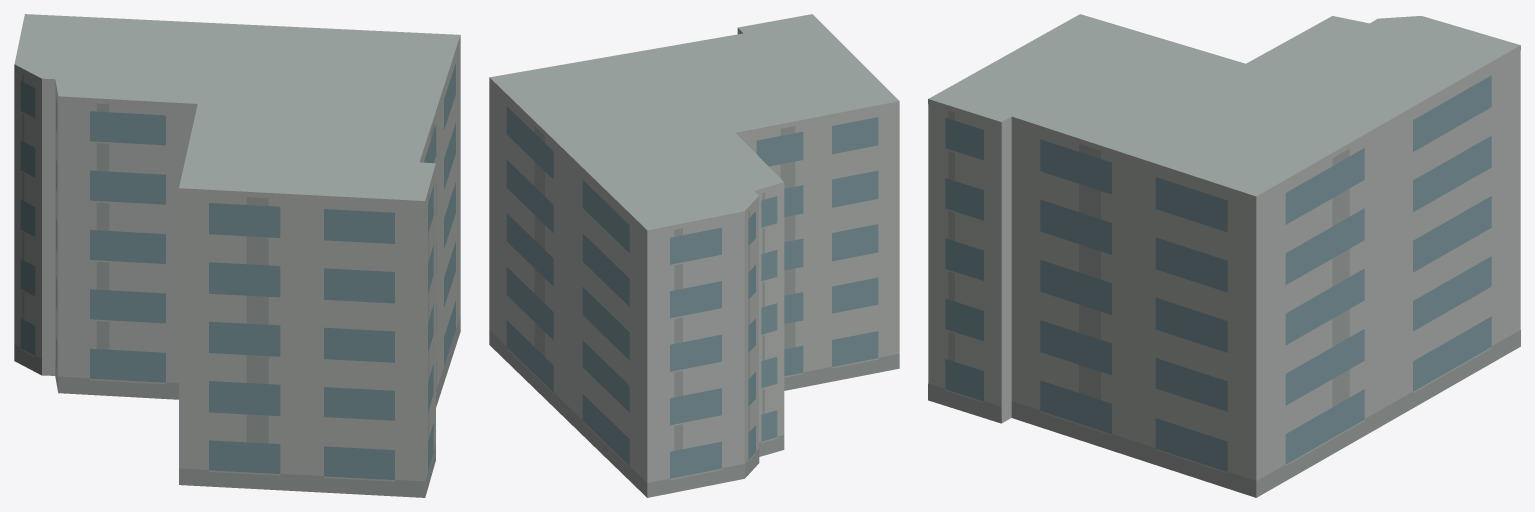
Rendered from survey-upis-32798425.glb.
The picture shows the model from 3 angles, left to right: view 1: azimuth 30°, elevation 25°; view 2: azimuth 150°, elevation 25°; view 3: azimuth 270°, elevation 25°; orthographic projection. The views are drawn at different scales.
Visible parts, largest first — view 1: survey-upis-32798425.tmp; view 2: survey-upis-32798425.tmp; view 3: survey-upis-32798425.tmp.
Part boxes in pixels (left/top/right/bottom): survey-upis-32798425.tmp: left=14, top=14, right=460, bottom=497; survey-upis-32798425.tmp: left=489, top=14, right=899, bottom=497; survey-upis-32798425.tmp: left=928, top=14, right=1520, bottom=497.
Size of the model in its own units: 17.86 by 13.75 by 24.51.
